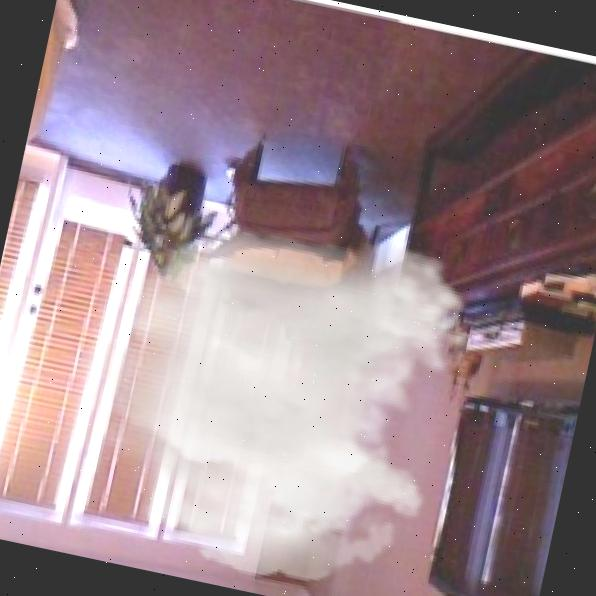smoke: (25, 181, 490, 596)
